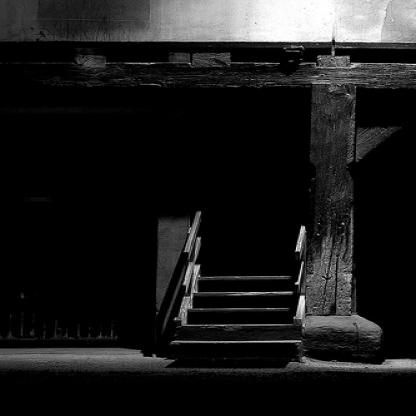stairs: (196, 296, 286, 369)
